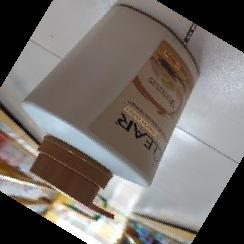clear: (15, 5, 200, 225)
